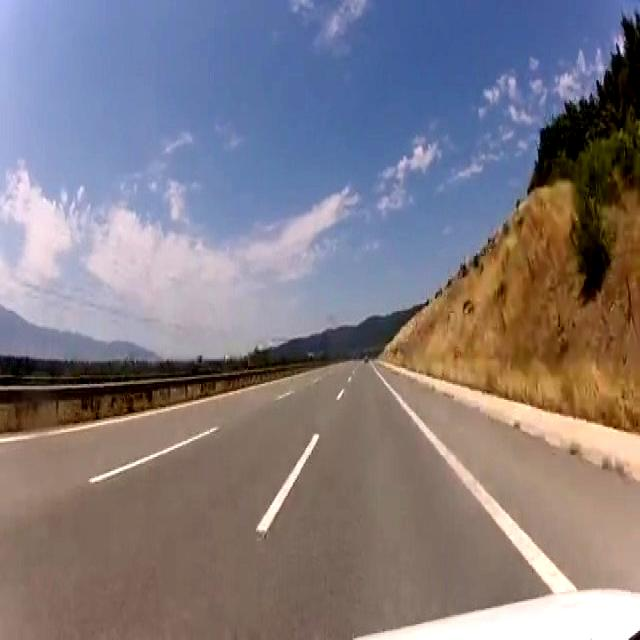lane: (371, 363, 575, 592), (89, 427, 217, 482), (256, 433, 318, 537)
road: (0, 363, 547, 636), (381, 370, 639, 590)
